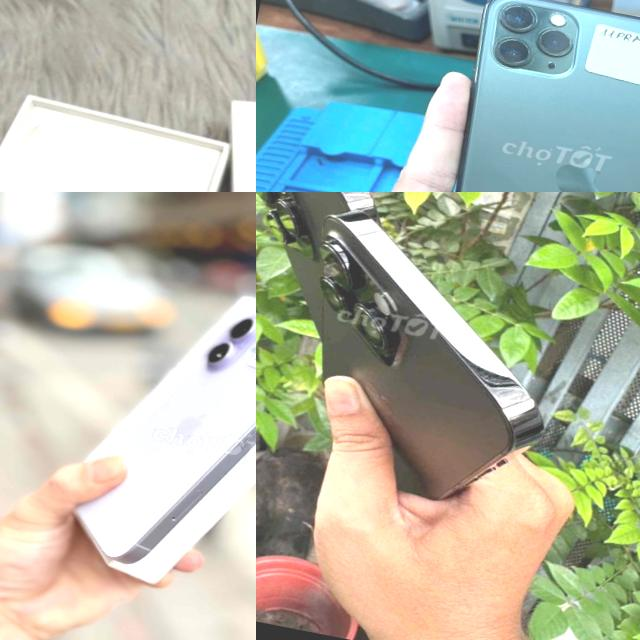scratch: (486, 0, 582, 78)
